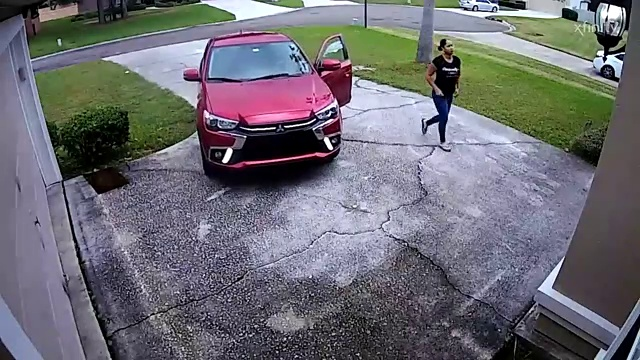face: (444, 42, 454, 53)
